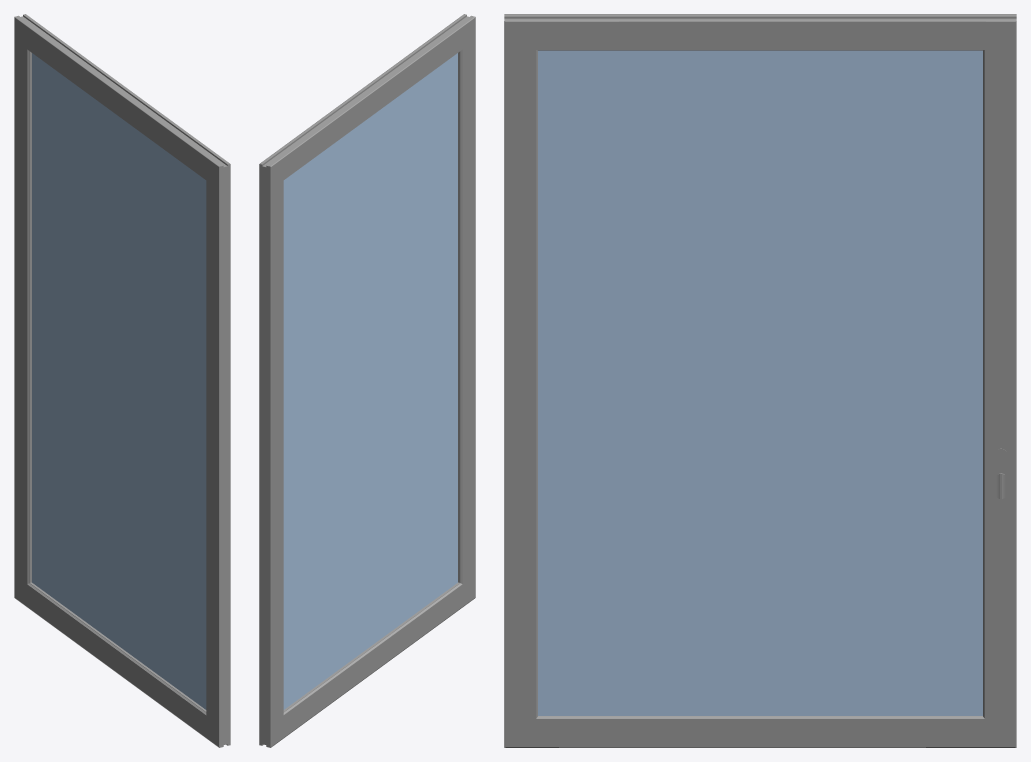
Rendered from Window_Sliding_A.fbx.
The picture shows the model from 3 angles, left to right: view 1: azimuth 30°, elevation 25°; view 2: azimuth 150°, elevation 25°; view 3: azimuth 270°, elevation 25°; orthographic projection. The views are drawn at different scales.
Parts seen in each view (by area): view 1: polySurface1, Window_Sliding_A; view 2: polySurface1, Window_Sliding_A; view 3: polySurface2, Window_Sliding_A.
Boxes of the visible parts, bbox=[...] form: polySurface1: bbox=[32, 53, 206, 709]; Window_Sliding_A: bbox=[14, 14, 230, 747]; polySurface1: bbox=[283, 53, 457, 709]; Window_Sliding_A: bbox=[259, 14, 475, 747]; polySurface2: bbox=[538, 50, 982, 715]; Window_Sliding_A: bbox=[504, 14, 1016, 747].
Bounding box in the file's own units: 6.27 × 279 × 178.
